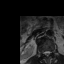CCS_normal: (46, 48, 48, 58)
LFS_stenosis: (50, 49, 52, 55)
LLS_normal: (48, 49, 50, 57)
RFS_normal: (41, 49, 43, 56)
RLS_normal: (43, 49, 46, 56)
